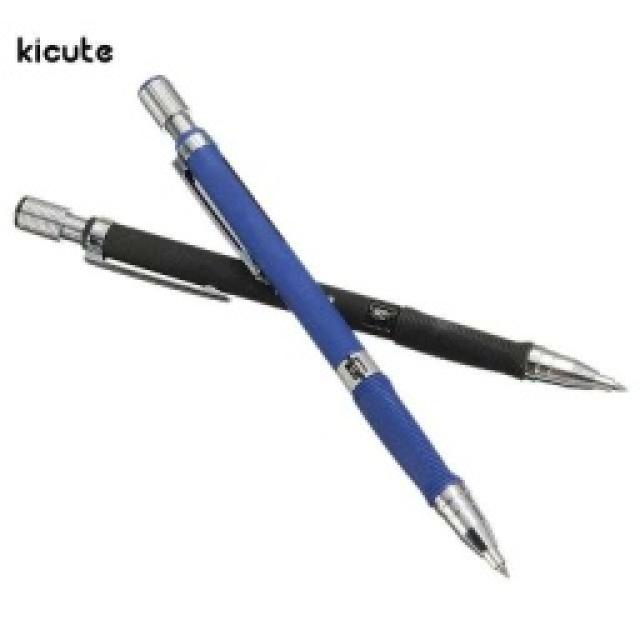pencil: (10, 68, 630, 582)
